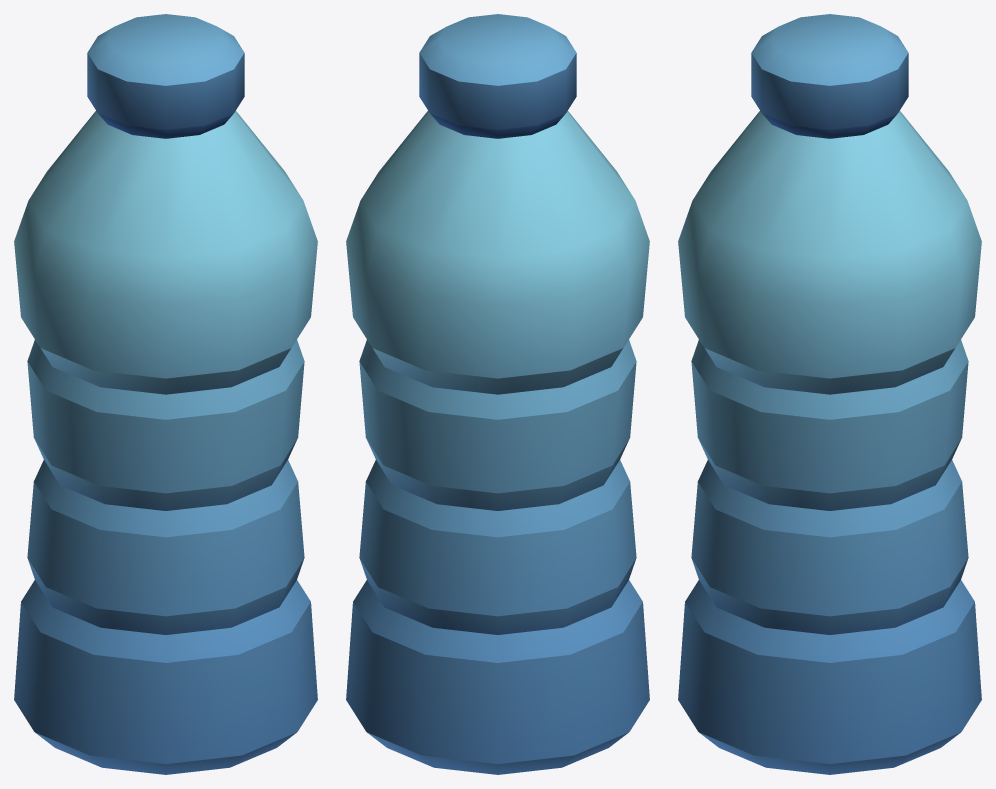
File: waterbottle_A.fbx
3 renders of one model, left to right at view 1: azimuth 30°, elevation 25°; view 2: azimuth 150°, elevation 25°; view 3: azimuth 270°, elevation 25°, orthographic.
Visible parts, largest first — view 1: waterbottle_A; view 2: waterbottle_A; view 3: waterbottle_A.
Part boxes in pixels (bbox=[...]): waterbottle_A: bbox=[14, 14, 317, 774]; waterbottle_A: bbox=[346, 14, 649, 774]; waterbottle_A: bbox=[678, 14, 981, 774].
Bounding box in the file's own units: 0.3293 × 0.8153 × 0.3293.
